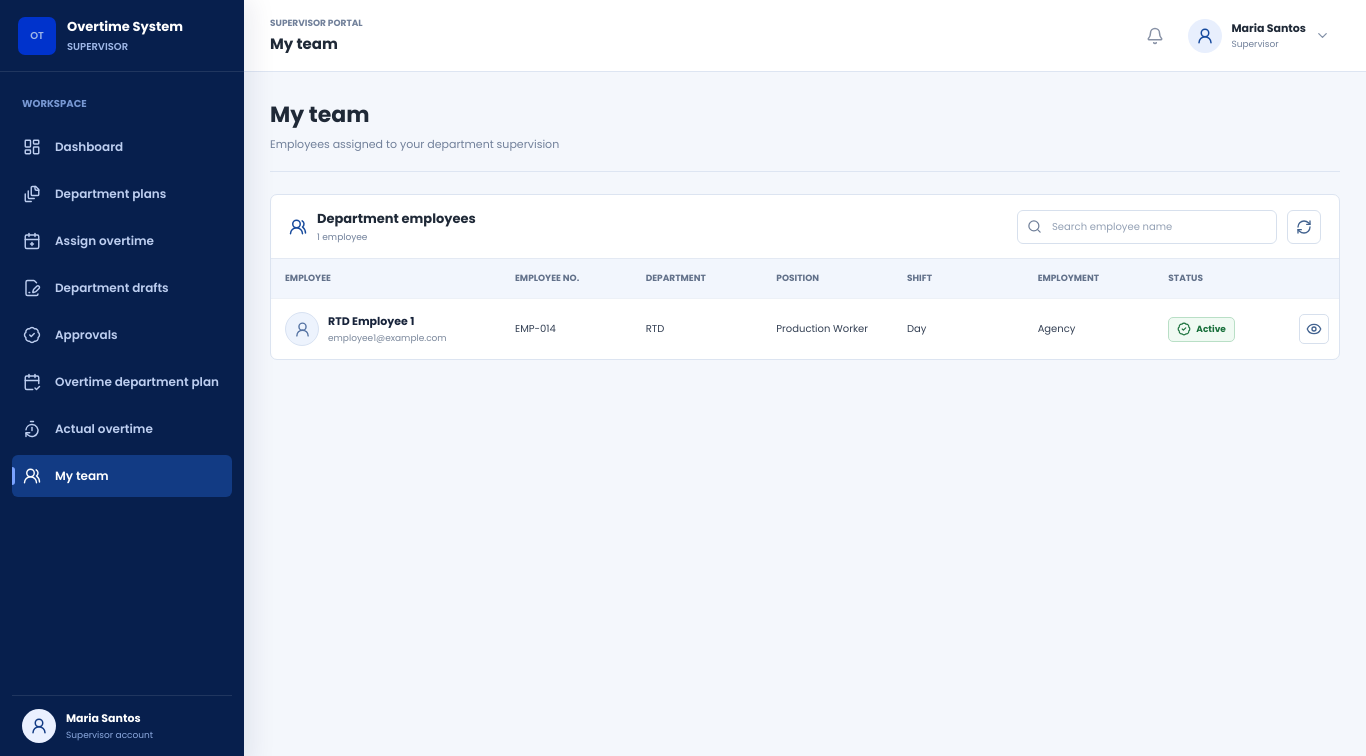
Test: role-based route protection › lists only the employees returned by the supervisor team endpoint
Expected: the heading "My team" is shown, top-left (270, 99), bottom-right (370, 130)
Expected: the text "EMP-014" is shown, top-left (501, 298), bottom-right (632, 359)
In the search field named "Search employees by name": (1146, 226) top-left (1050, 218), bottom-right (1243, 236), type "missing name"
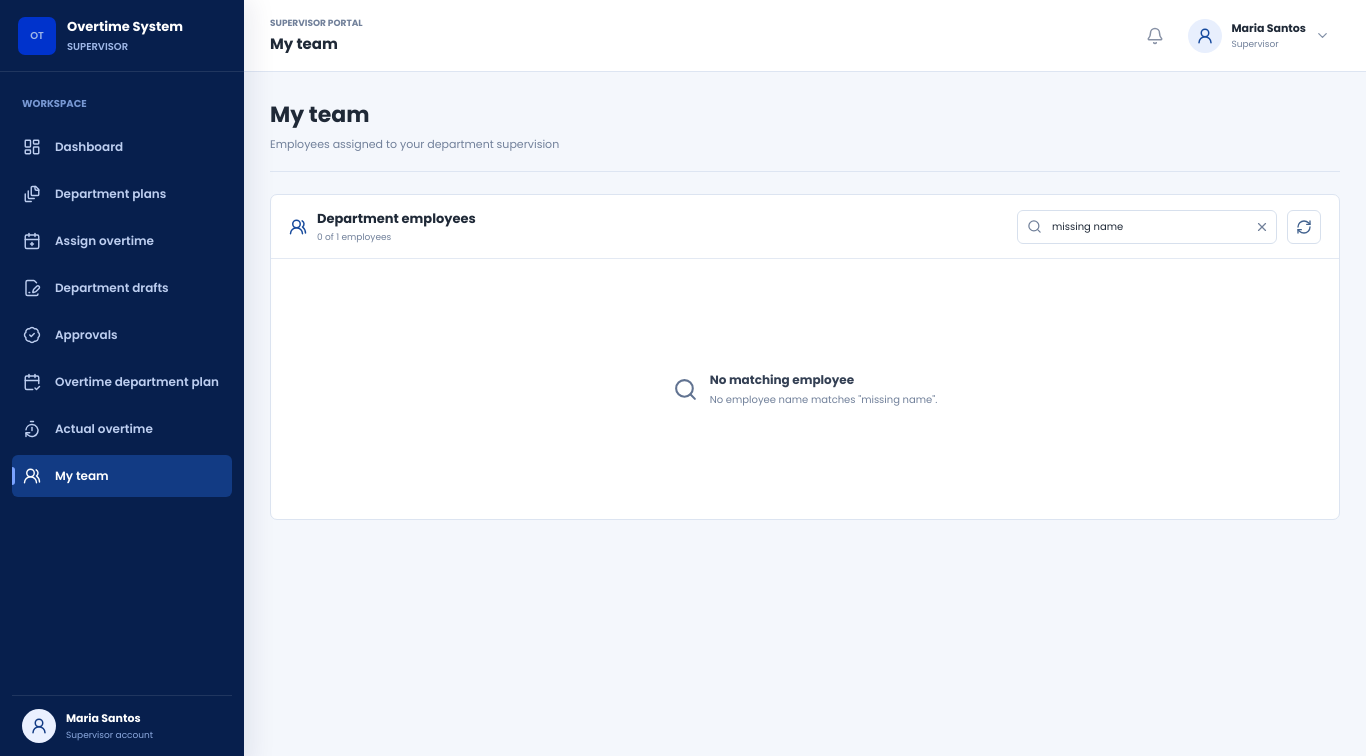
Expected: the text "No matching employee" is shown, top-left (710, 370), bottom-right (854, 388)
Expected: the text "0 of 1 employees" is shown, top-left (317, 231), bottom-right (391, 243)
Click the button named "Clear employee search": (1262, 226) top-left (1248, 212), bottom-right (1276, 240)
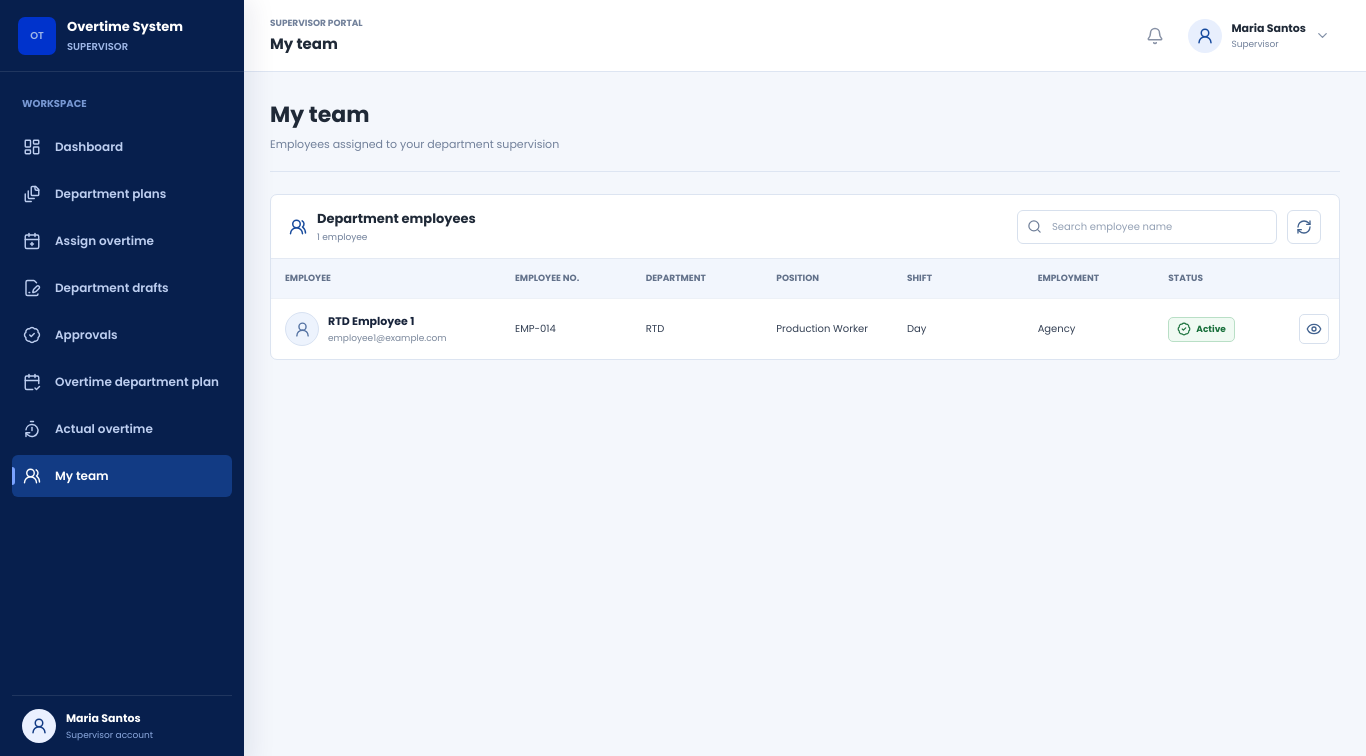
Click the link named "View RTD Employee 1 profile": (1314, 329) top-left (1299, 314), bottom-right (1329, 344)
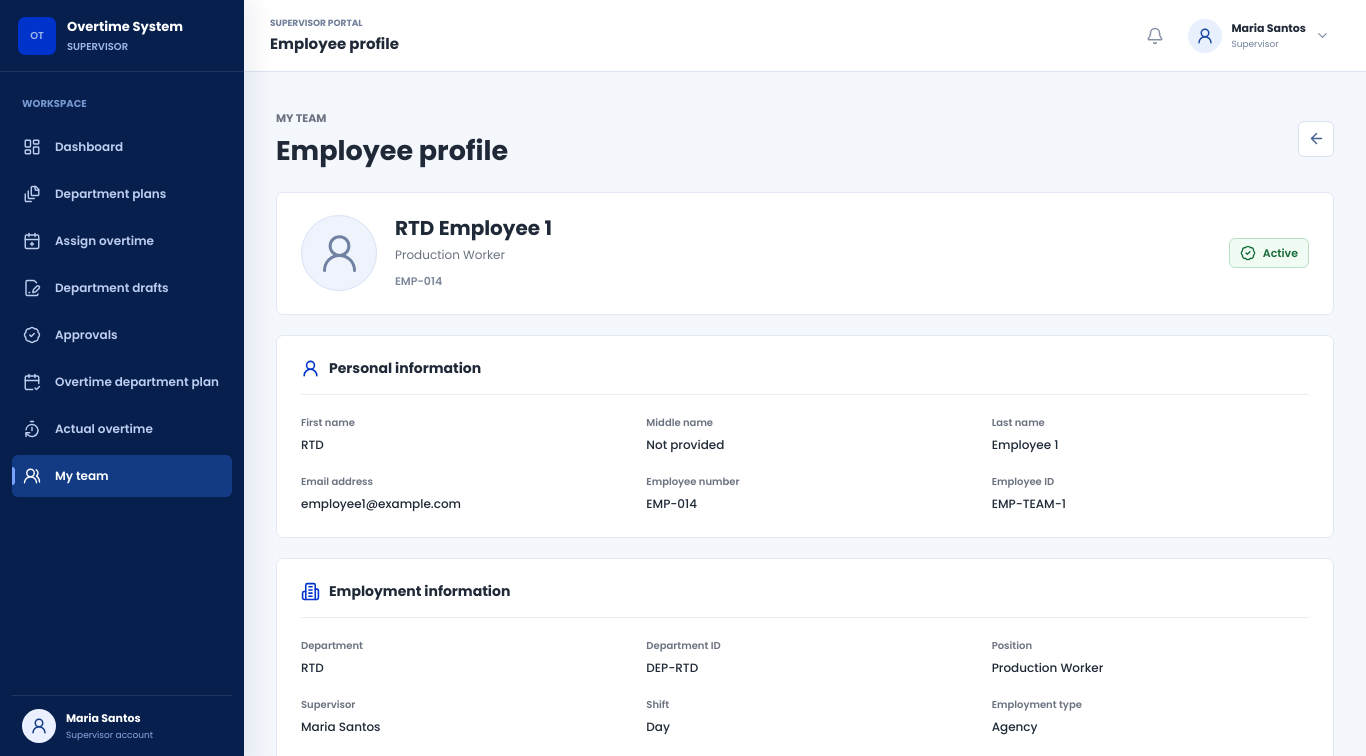
Expected: the text "Maria Santos" below "Actual overtime" is shown, top-left (66, 710), bottom-right (141, 726)
Expected: the heading "RTD Employee 1" is shown, top-left (395, 214), bottom-right (552, 242)
Expected: the heading "Employee profile" is shown, top-left (276, 134), bottom-right (508, 168)
